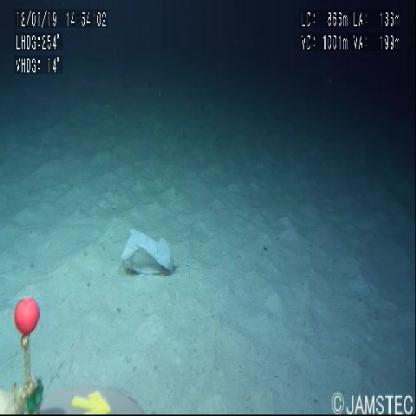Rác: (121, 230, 182, 278)
